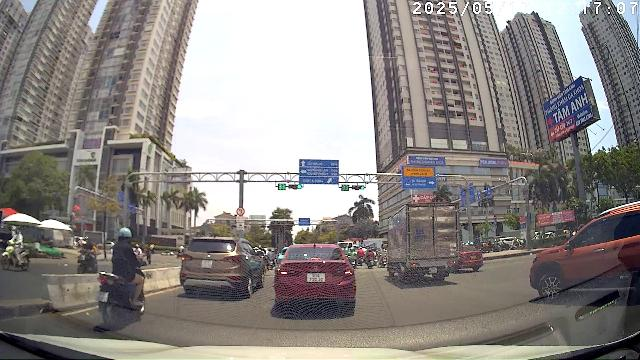103c-cam-oto-re-trai: (237, 208, 246, 216)
